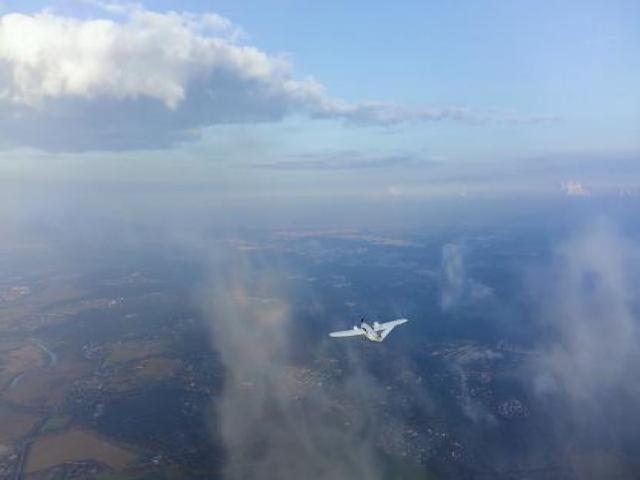uav: (329, 316, 411, 345)
